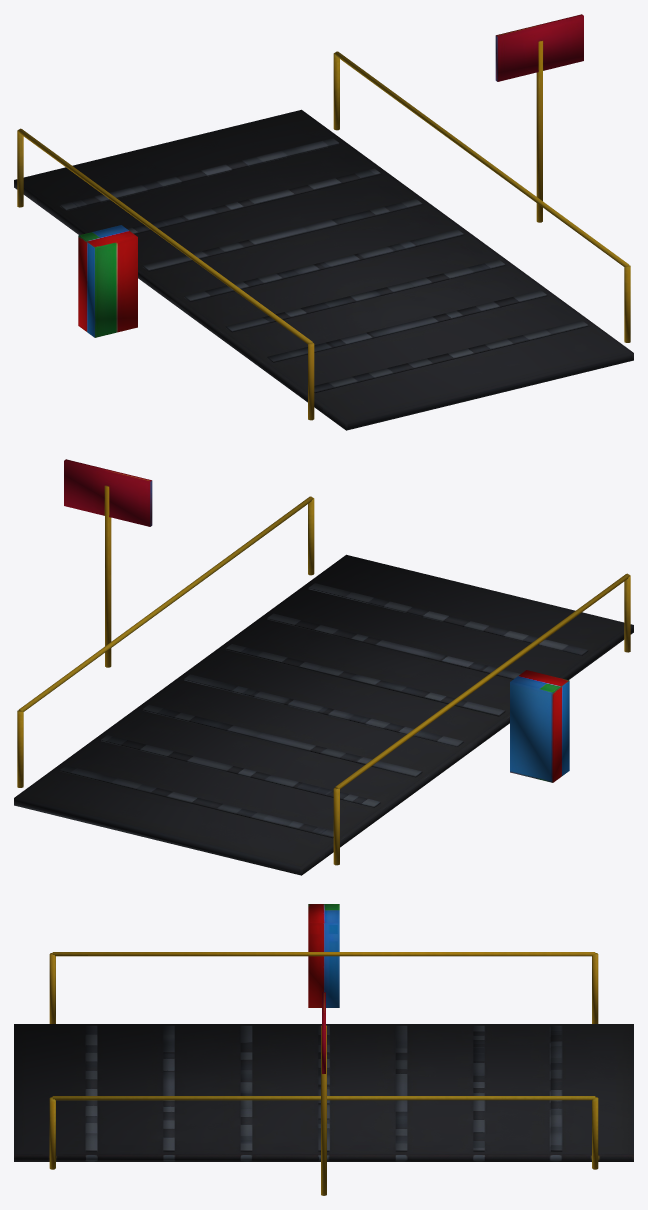
Rendered from yard-tire-inspection-body-tripo-original.glb.
3 views of the same model, one above another, from view 1: azimuth 30°, elevation 25°; view 2: azimuth 150°, elevation 25°; view 3: azimuth 270°, elevation 25° (orthographic). The views are drawn at different scales.
Parts seen in each view (by area): view 1: Authored_surface_080; view 2: Authored_surface_080; view 3: Authored_surface_080.
Part boxes in pixels (box(x1,y1,x2,y2)): Authored_surface_080: box(14, 14, 633, 430); Authored_surface_080: box(14, 459, 633, 875); Authored_surface_080: box(14, 904, 633, 1195).
Size of the model in its own units: 0.8625 by 0.325 by 1.
Materials: 1 (1 with a texture image).
